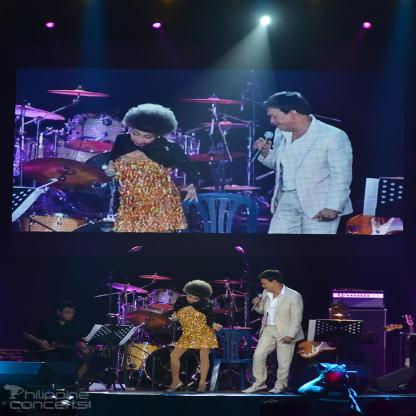face: (268, 109, 291, 132), (131, 130, 158, 147), (333, 306, 348, 319), (63, 308, 76, 322), (262, 280, 274, 292), (188, 295, 201, 305)
